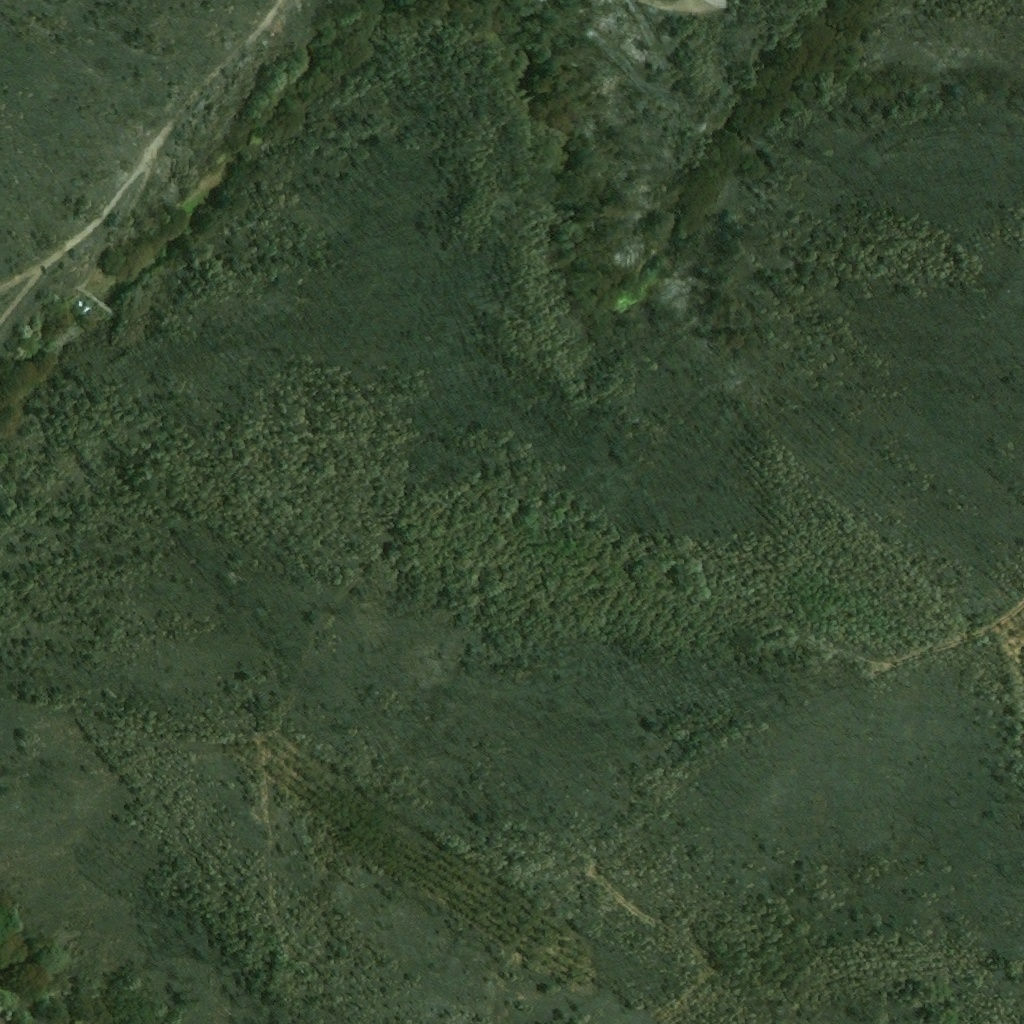4 un-classified: (73, 306, 88, 318)
